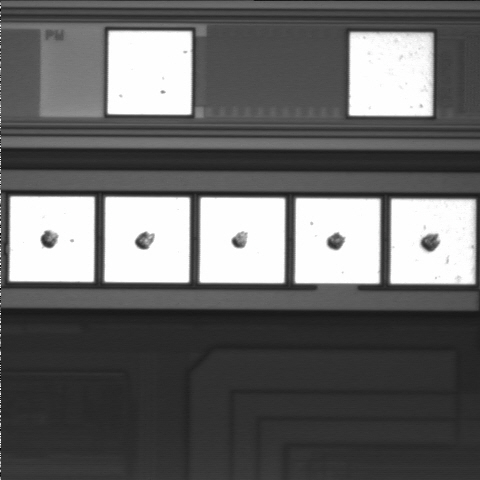pad: (9, 197, 94, 282), (105, 197, 190, 282), (200, 198, 285, 283), (295, 198, 380, 283), (390, 199, 475, 284), (108, 31, 192, 115), (349, 33, 432, 116)
